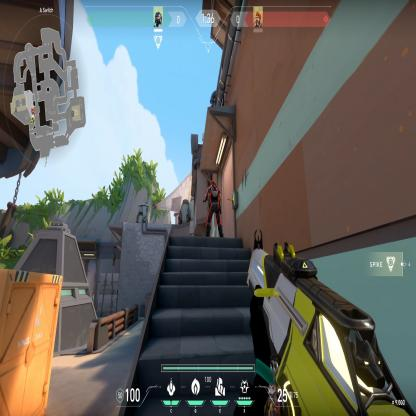enemy: (202, 177, 225, 240)
